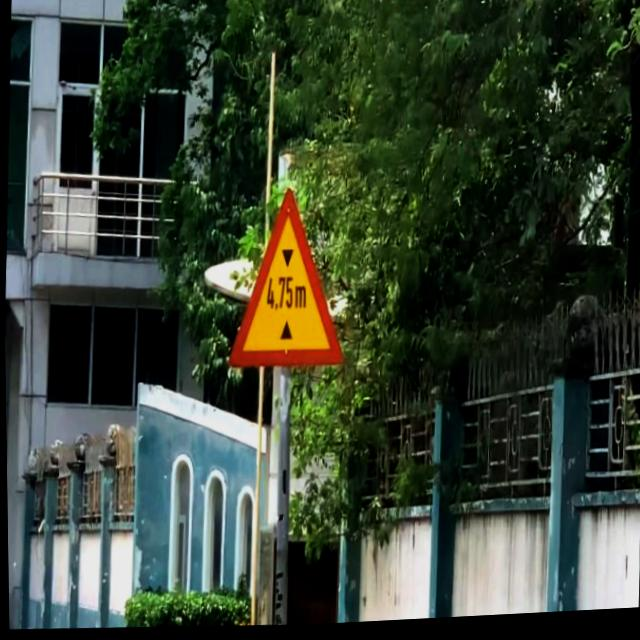Chieu cao an toan: (224, 186, 347, 373)
